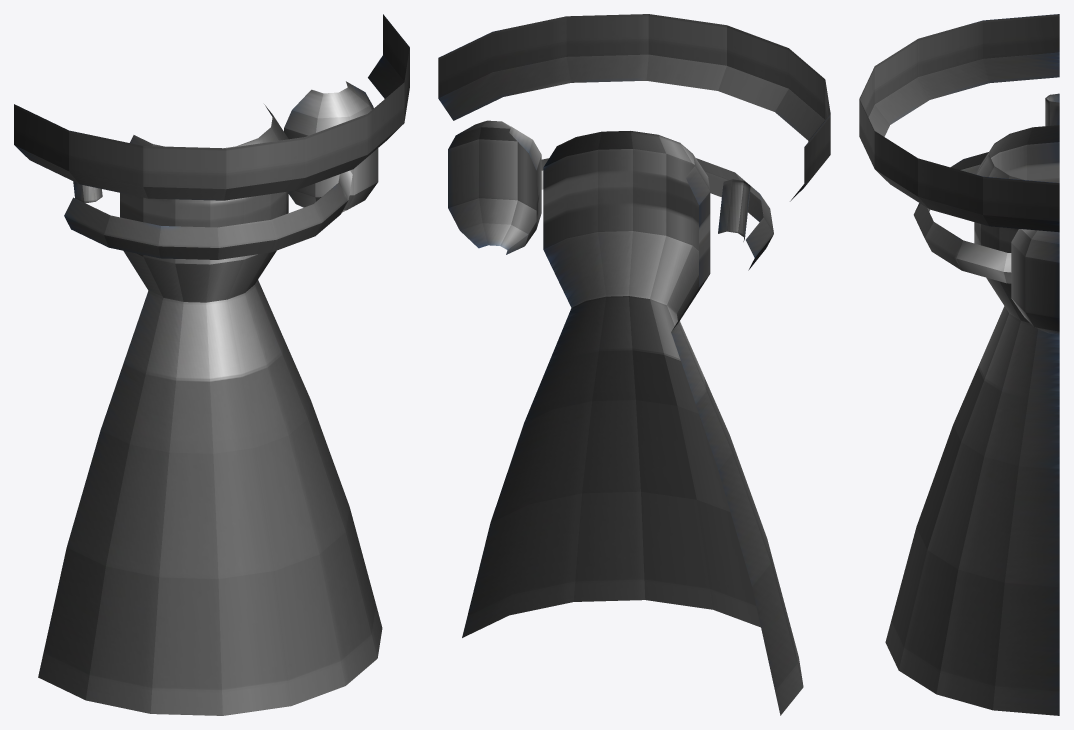
Rendered from EngineKolibri.gltf.
3 views of the same model, side by side, from view 1: azimuth 30°, elevation 25°; view 2: azimuth 150°, elevation 25°; view 3: azimuth 270°, elevation 25° (orthographic). The views are drawn at different scales.
Parts seen in each view (by area): view 1: model; view 2: model; view 3: model.
Boxes of the visible parts, x1=… form: model: x1=14, y1=14, x2=409, y2=715; model: x1=438, y1=14, x2=830, y2=715; model: x1=859, y1=14, x2=1059, y2=715.
Size of the model in its own units: 1 by 1.5 by 0.5.
1 material, 1 textured.
